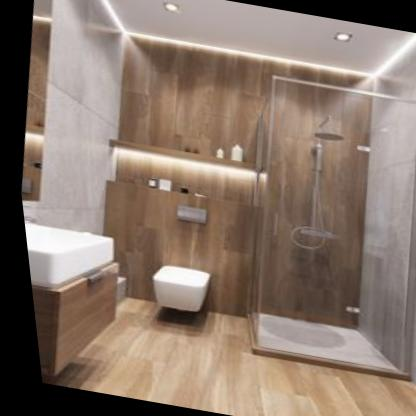Wooden floor: (41, 298, 416, 416)
